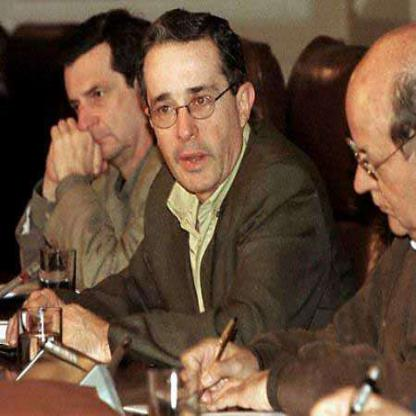face: (146, 17, 241, 196), (66, 24, 139, 167)
